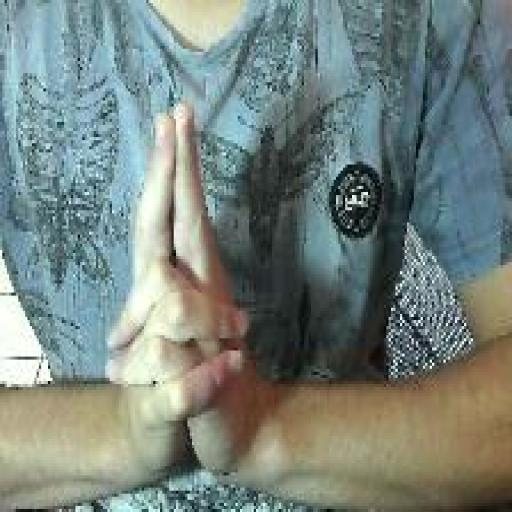Tora -tiger-: (100, 96, 254, 492)
